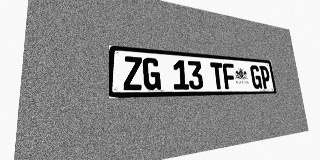1: (172, 59, 189, 90)
3: (187, 60, 203, 90)
F: (222, 63, 236, 89)
G: (142, 57, 161, 90), (250, 65, 262, 89)
P: (259, 66, 271, 89)
T: (210, 62, 225, 89)
Z: (123, 56, 143, 90)
